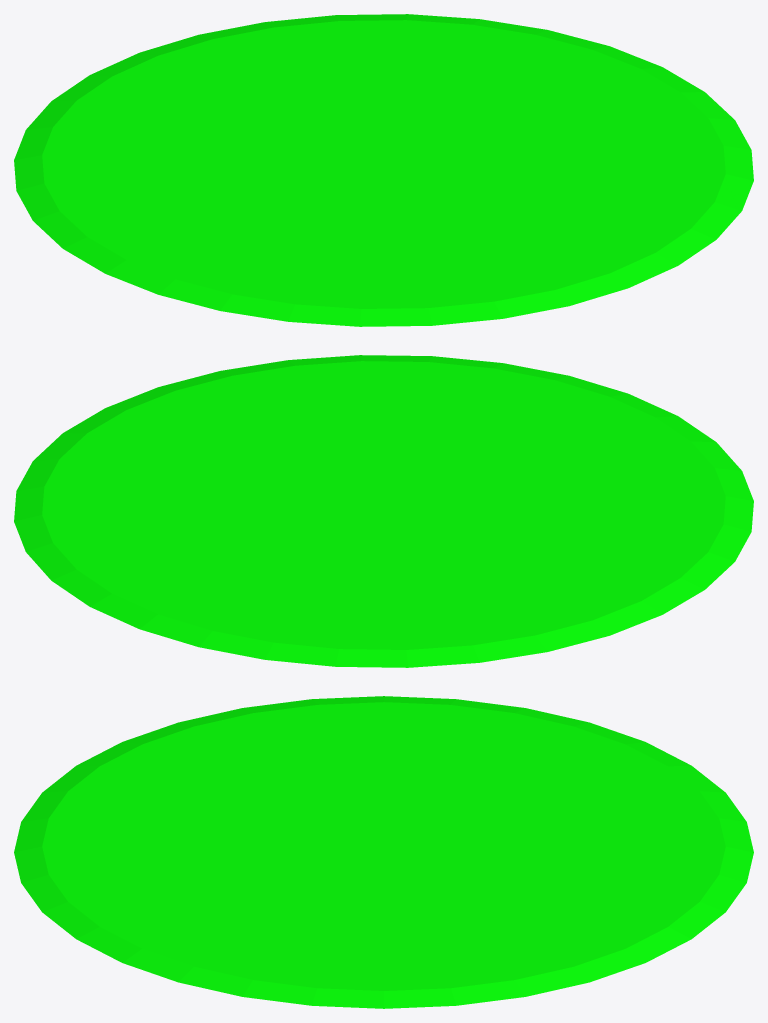
File: green_player.glb
3 renders of one model, top to bottom at view 1: azimuth 30°, elevation 25°; view 2: azimuth 150°, elevation 25°; view 3: azimuth 270°, elevation 25°, orthographic.
Parts seen in each view (by area): view 1: GreenPlayer; view 2: GreenPlayer; view 3: GreenPlayer.
Boxes of the visible parts, left/top/right/bottom form: GreenPlayer: left=14, top=14, right=753, bottom=326; GreenPlayer: left=14, top=355, right=753, bottom=667; GreenPlayer: left=14, top=696, right=753, bottom=1008.
Bounding box in the file's own units: 0.2272 × 0.004 × 0.2272.
